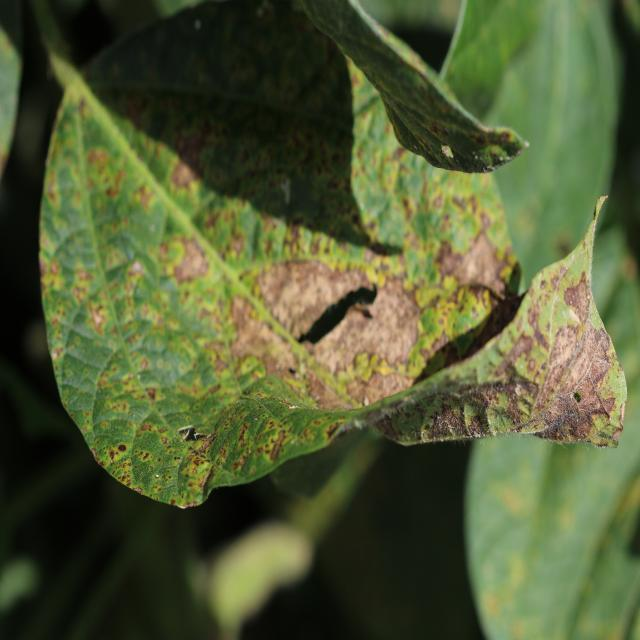Bacterial_Blight: (120, 86, 370, 248), (232, 251, 420, 401), (536, 302, 624, 444), (417, 280, 522, 380), (229, 287, 302, 378), (436, 223, 519, 299), (270, 266, 338, 334), (352, 277, 412, 353), (532, 390, 591, 440), (170, 123, 212, 180), (170, 236, 212, 285), (302, 368, 337, 403), (169, 155, 200, 190), (563, 277, 590, 316)
Soybean: (40, 0, 627, 507)
